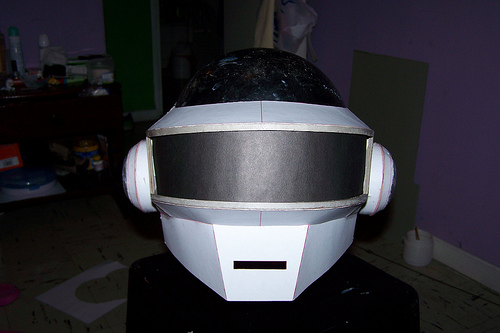helmet: (132, 71, 394, 281)
